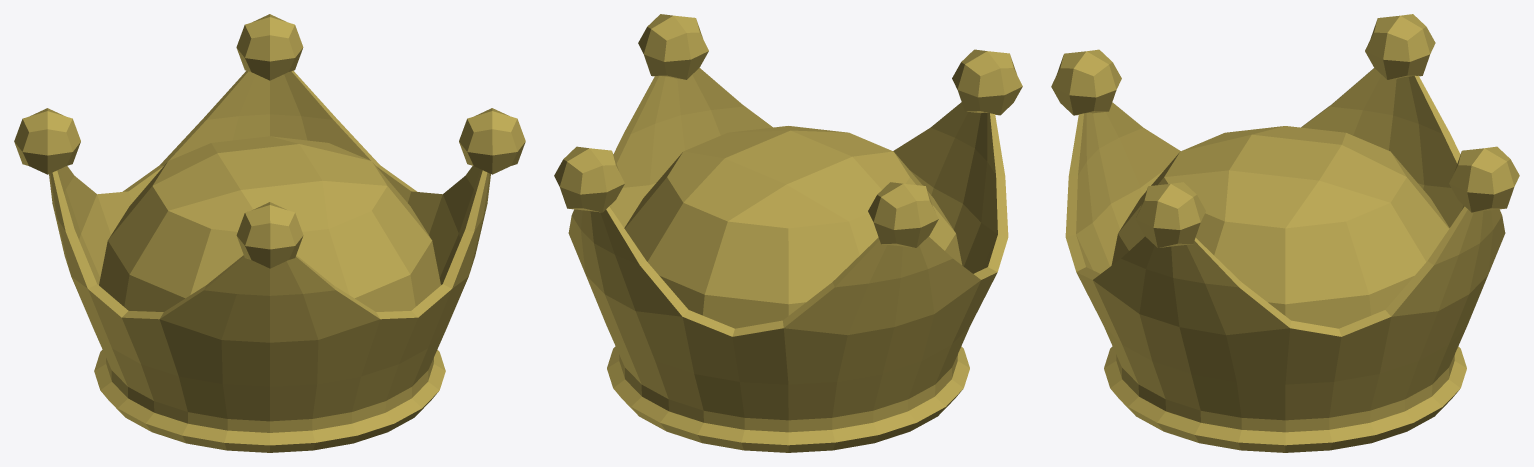
3 views of the same model, side by side, from view 1: azimuth 30°, elevation 25°; view 2: azimuth 150°, elevation 25°; view 3: azimuth 270°, elevation 25° (orthographic). The views are drawn at different scales.
Parts seen in each view (by area): view 1: Crown2_Cylinder.009; view 2: Crown2_Cylinder.009; view 3: Crown2_Cylinder.009.
Boxes of the visible parts, x1,y1,x2,y2 form: Crown2_Cylinder.009: [14, 14, 525, 452]; Crown2_Cylinder.009: [554, 14, 1022, 452]; Crown2_Cylinder.009: [1051, 14, 1519, 452].
Bounding box in the file's own units: 0.8862 × 0.585 × 0.8862.
